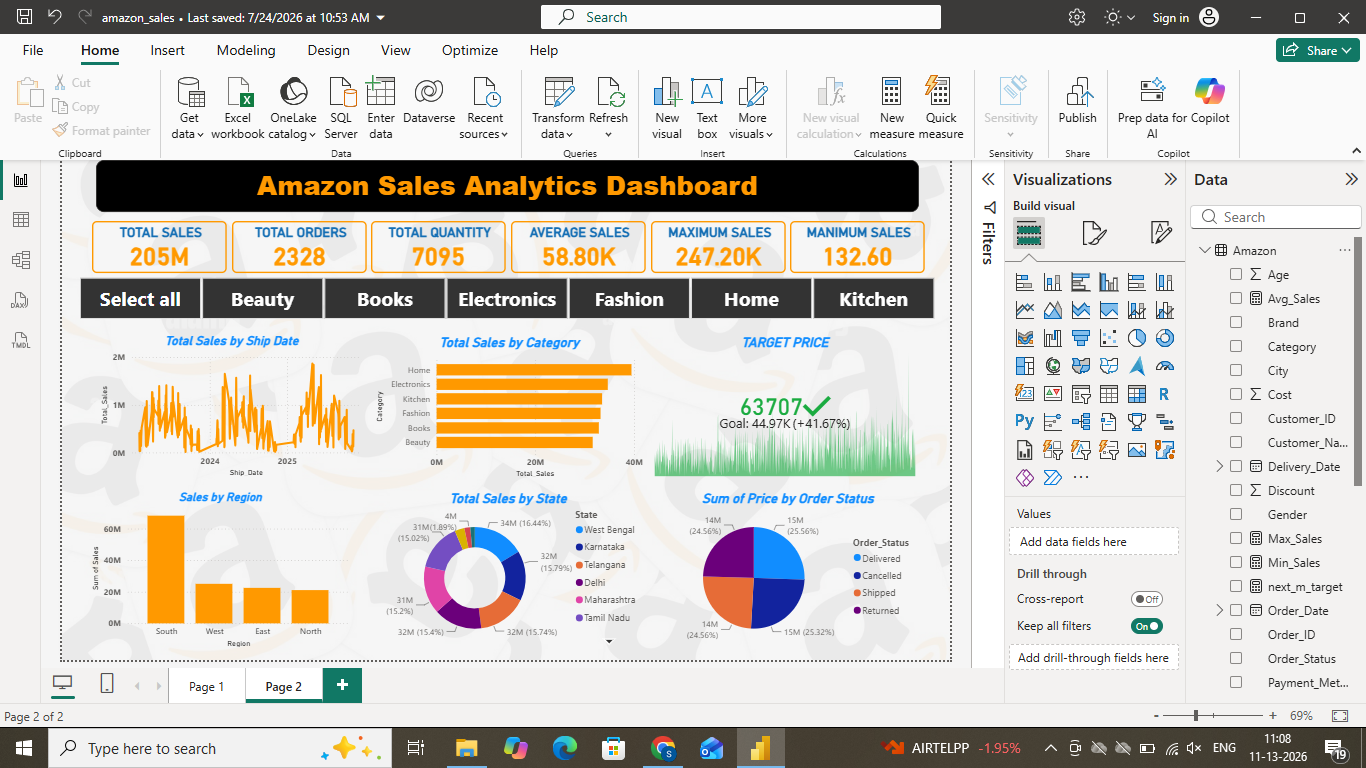

What the dashboard file says about the page in this screenshot:
{"tool":"powerbi","page":{"name":"Page 2","canvas":[1280,720],"ordinal":1},"visuals":[{"type":"card","title":"TOTAL SALES","fields":{"Values":["Amazon.Total_Price"]},"box":[42.9,87.9,194.2,75.1],"z":0},{"type":"card","title":"TOTAL ORDERS","fields":{"Values":["Amazon.Total orders"]},"box":[244.2,87.9,194.2,75.1],"z":1000},{"type":"card","title":"TOTAL QUANTITY","fields":{"Values":["Amazon.Total_Quantity"]},"box":[445.5,87.9,194.2,75.1],"z":2000},{"type":"card","title":"AVERAGE SALES","fields":{"Values":["Amazon.Avg_Sales"]},"box":[646.7,87.9,194.2,75.1],"z":3000},{"type":"card","title":"MAXIMUM SALES","fields":{"Values":["Amazon.Max_Sales"]},"box":[848,87.9,194.2,75.1],"z":4000},{"type":"card","title":"MANIMUM SALES","fields":{"Values":["Amazon.Min_Sales"]},"box":[1047.8,87.9,194.2,75.1],"z":5000},{"type":"textbox","box":[49.6,0,1184.9,75.1],"z":6000},{"type":"kpi","title":"TARGET PRICE","fields":{"Goal":["Amazon.next_m_target"],"Indicator":["Amazon.Total_Price"],"TrendLine":["Amazon.Price"]},"box":[848.2,250.6,385.9,210.2],"z":7000},{"type":"lineChart","title":"Total Sales by Ship Date","fields":{"Category":["Amazon.Ship_Date"],"Y":["Amazon.Total_Sales"]},"box":[50.3,248.9,388.3,211.2],"z":8000},{"type":"clusteredBarChart","title":"Total Sales by Category","fields":{"Category":["Amazon.Category"],"Y":["Amazon.Total_Sales"]},"box":[445.7,250.3,395.4,211.2],"z":9000},{"type":"slicer","title":"Category","fields":{"Values":["Amazon.Category"]},"box":[0,163.3,1280,73.3],"z":10000},{"type":"columnChart","title":"Sales by Region","fields":{"Category":["Amazon.Region"],"Y":["Sum(Amazon.Sales)"]},"box":[37.5,475.4,381.3,231],"z":11000},{"type":"pieChart","title":"Sum of Price by Order Status","fields":{"Category":["Amazon.Order_Status"],"Y":["Sum(Amazon.Price)"]},"box":[848.2,475.4,394,231],"z":12000},{"type":"donutChart","title":"Total Sales by State","fields":{"Category":["Amazon.State"],"Y":["Amazon.Total_Sales"]},"box":[445.6,475.4,395,231],"z":13000}]}

Visuals, with their boxes on the page's 1280x720 design canvas (x1, y1, x2, y2). These are canvas units, not pixel positions in the 1366x768 screenshot, which may show the page scaled, cropped or inside an application window:
"TOTAL SALES" card: crop(43, 88, 237, 163)
"TOTAL ORDERS" card: crop(244, 88, 438, 163)
"TOTAL QUANTITY" card: crop(446, 88, 640, 163)
"AVERAGE SALES" card: crop(647, 88, 841, 163)
"MAXIMUM SALES" card: crop(848, 88, 1042, 163)
"MANIMUM SALES" card: crop(1048, 88, 1242, 163)
textbox: crop(50, 0, 1234, 75)
"TARGET PRICE" kpi: crop(848, 251, 1234, 461)
"Total Sales by Ship Date" lineChart: crop(50, 249, 439, 460)
"Total Sales by Category" clusteredBarChart: crop(446, 250, 841, 462)
"Category" slicer: crop(0, 163, 1280, 237)
"Sales by Region" columnChart: crop(38, 475, 419, 706)
"Sum of Price by Order Status" pieChart: crop(848, 475, 1242, 706)
"Total Sales by State" donutChart: crop(446, 475, 841, 706)
